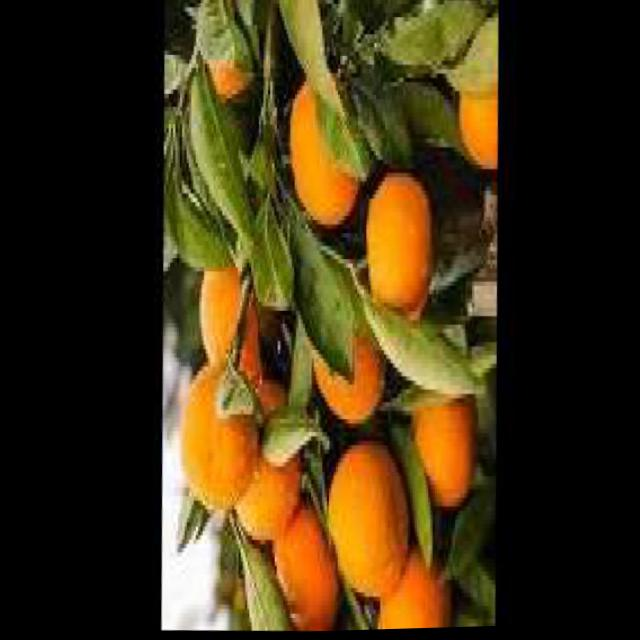orange: (167, 348, 263, 519), (315, 444, 414, 607), (304, 283, 401, 428), (283, 71, 370, 232), (402, 366, 484, 517), (358, 167, 434, 317), (262, 505, 334, 634), (449, 7, 503, 170)
